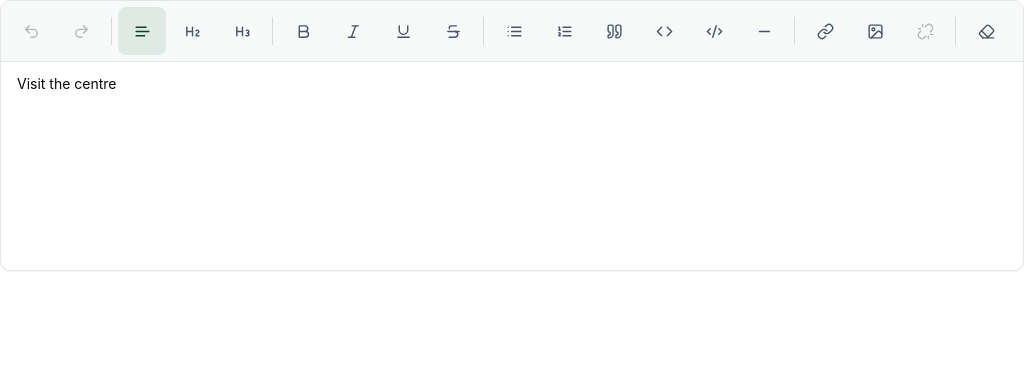
Test case: rich text editor › refuses unsafe link destinations
This screenshot has width=1024, height=373.
Expected: the button named "Undo" is shown, [7,7,55,55]
Press a in the field labelled "Visit the centre", box [17,75,116,92]
Click the button named "Insert link" at point(825, 31), box [801,7,849,55]
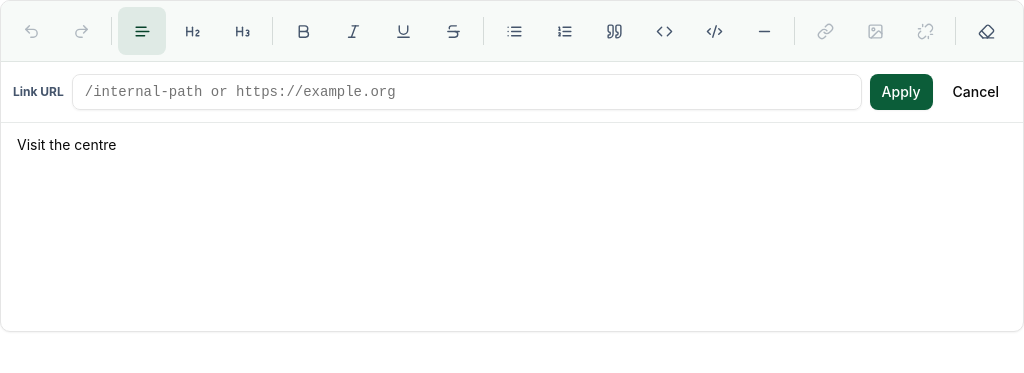
Type "javascript:alert(1)" into the field labelled "Link URL" at point(467, 92), box [72,74,862,110]
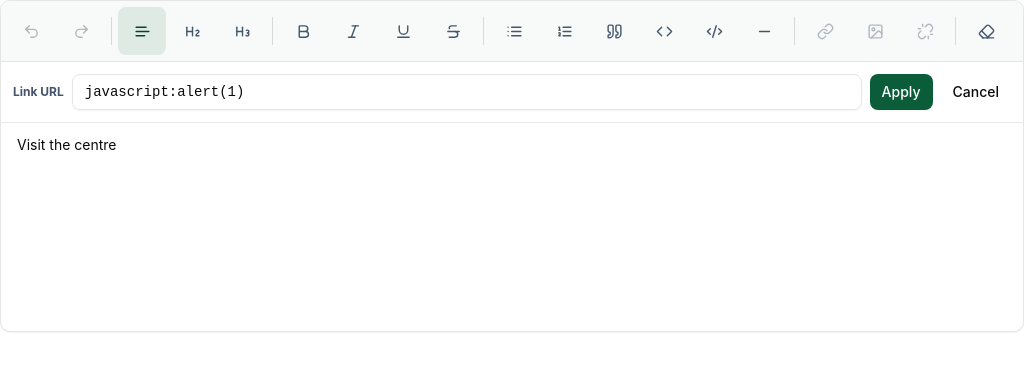
Click the button "Apply" at point(901, 92), box [870,74,932,110]
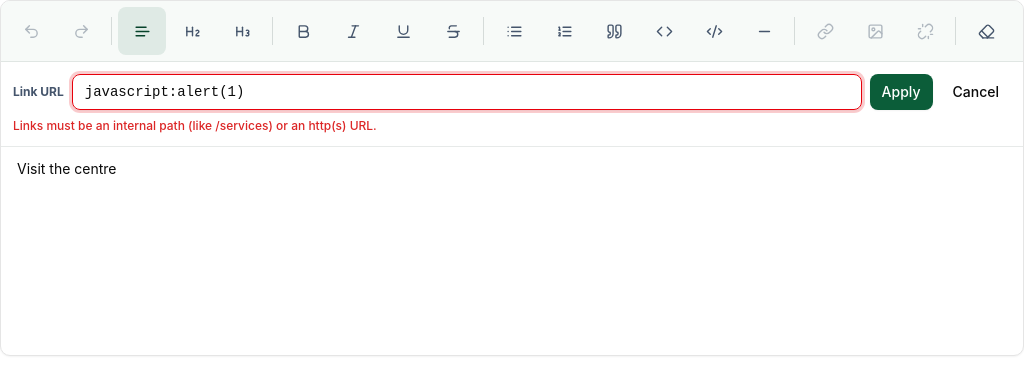
Result: the message shows "Links must be an internal path" at [13,118,377,133]
